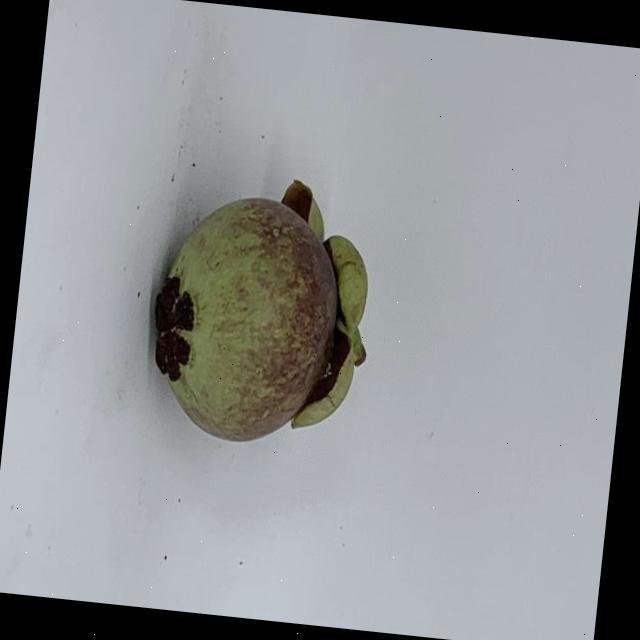mangosteen: (124, 157, 390, 462)
